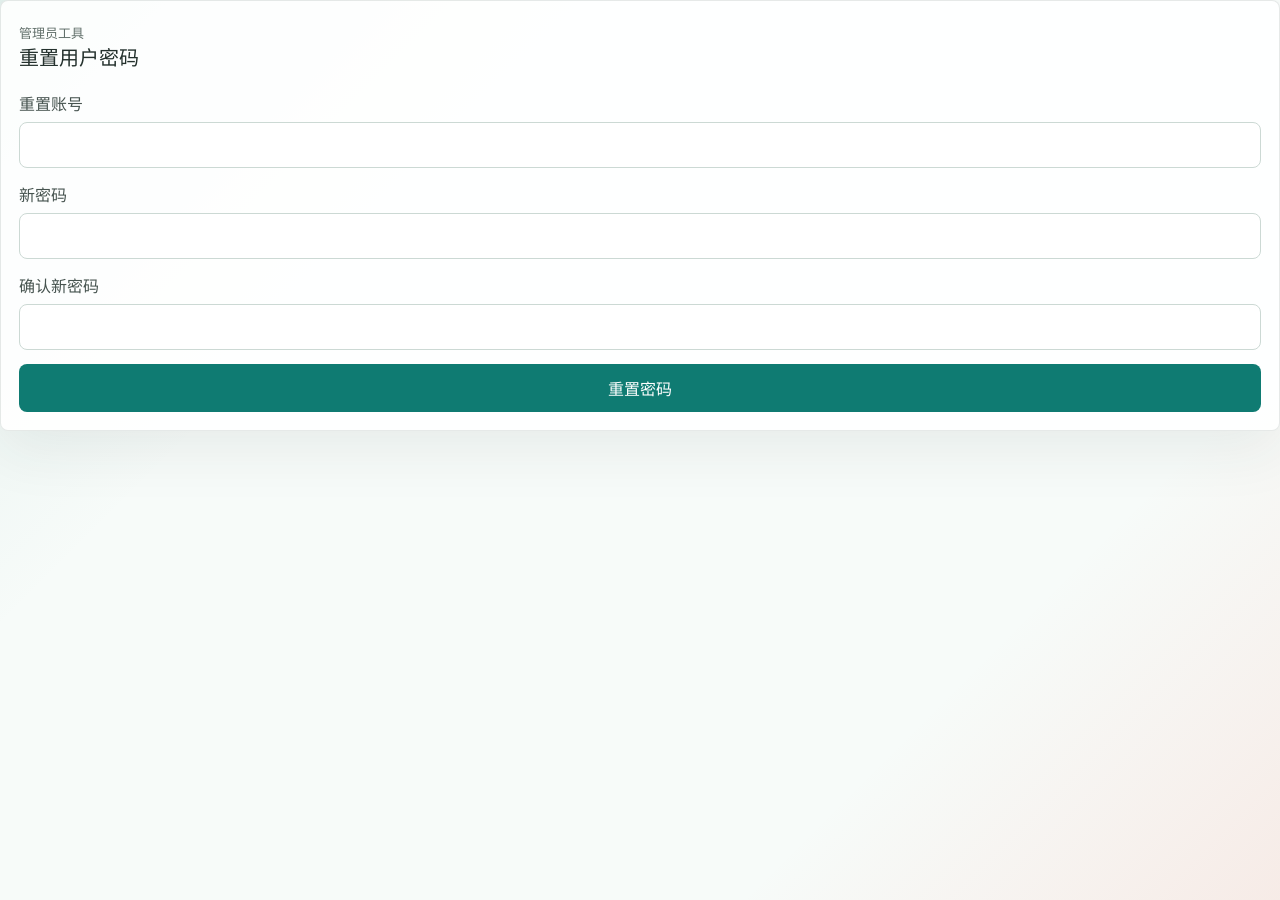
it: AdminResetPasswordPanel › prevents password reset when confirmation does not match
This screenshot has width=1280, height=900.
Type "baby_home" into the field labelled "重置账号" at (640, 145), box [19,122,1261,168]
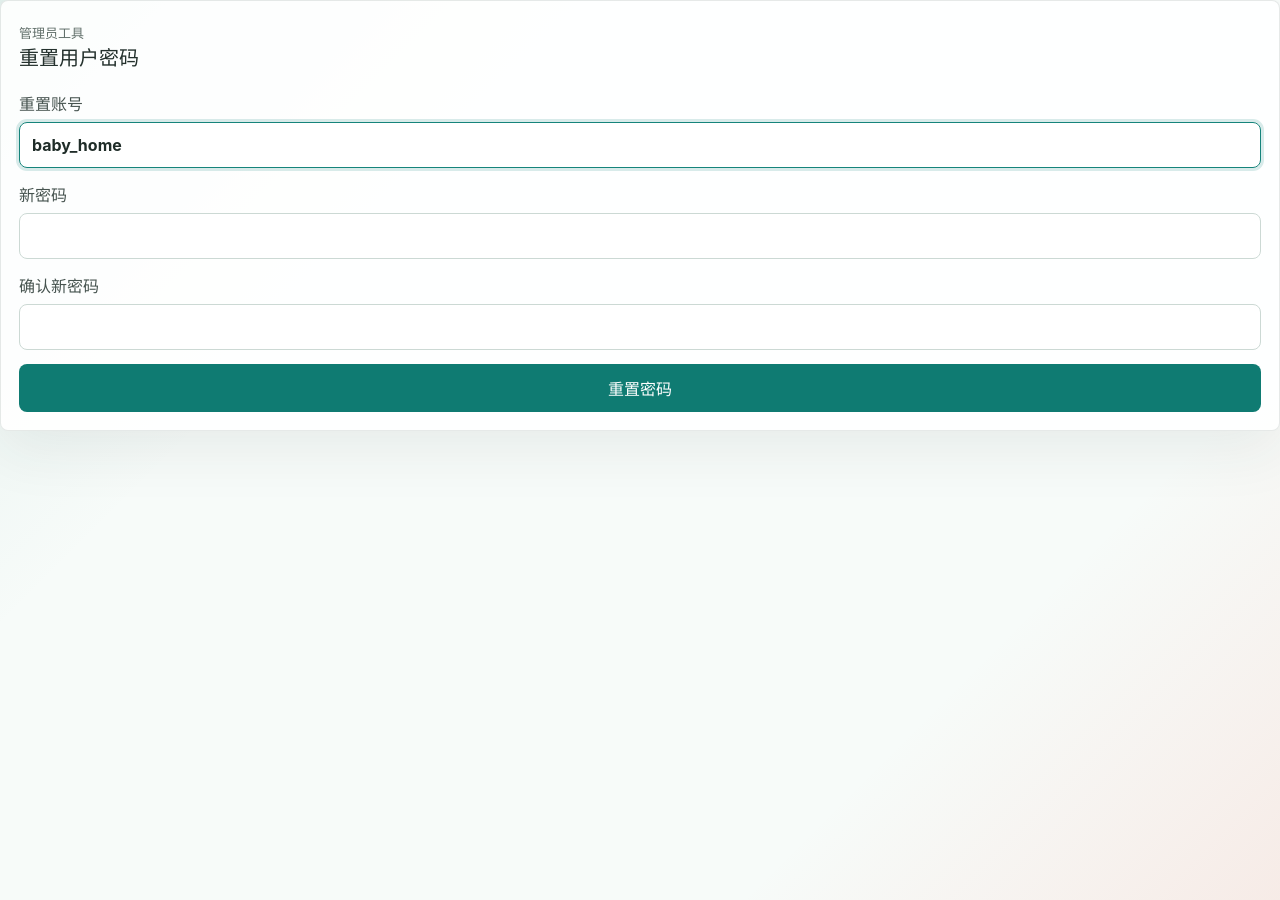
Type "newpass123" into the password field labelled "新密码" at (640, 236), box [19,213,1261,259]
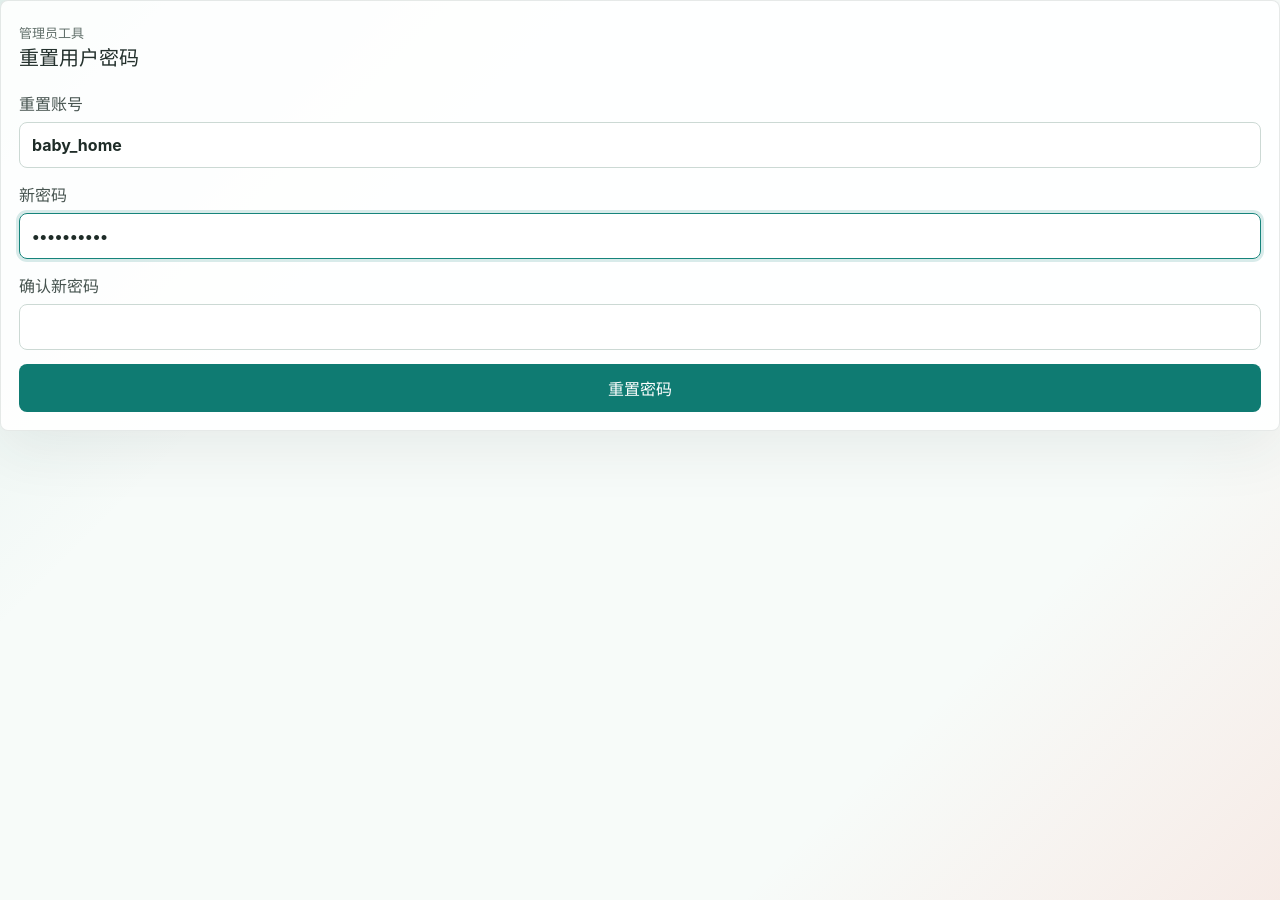
Type "wrongpass" into the password field labelled "确认新密码" at (640, 327), box [19,304,1261,350]
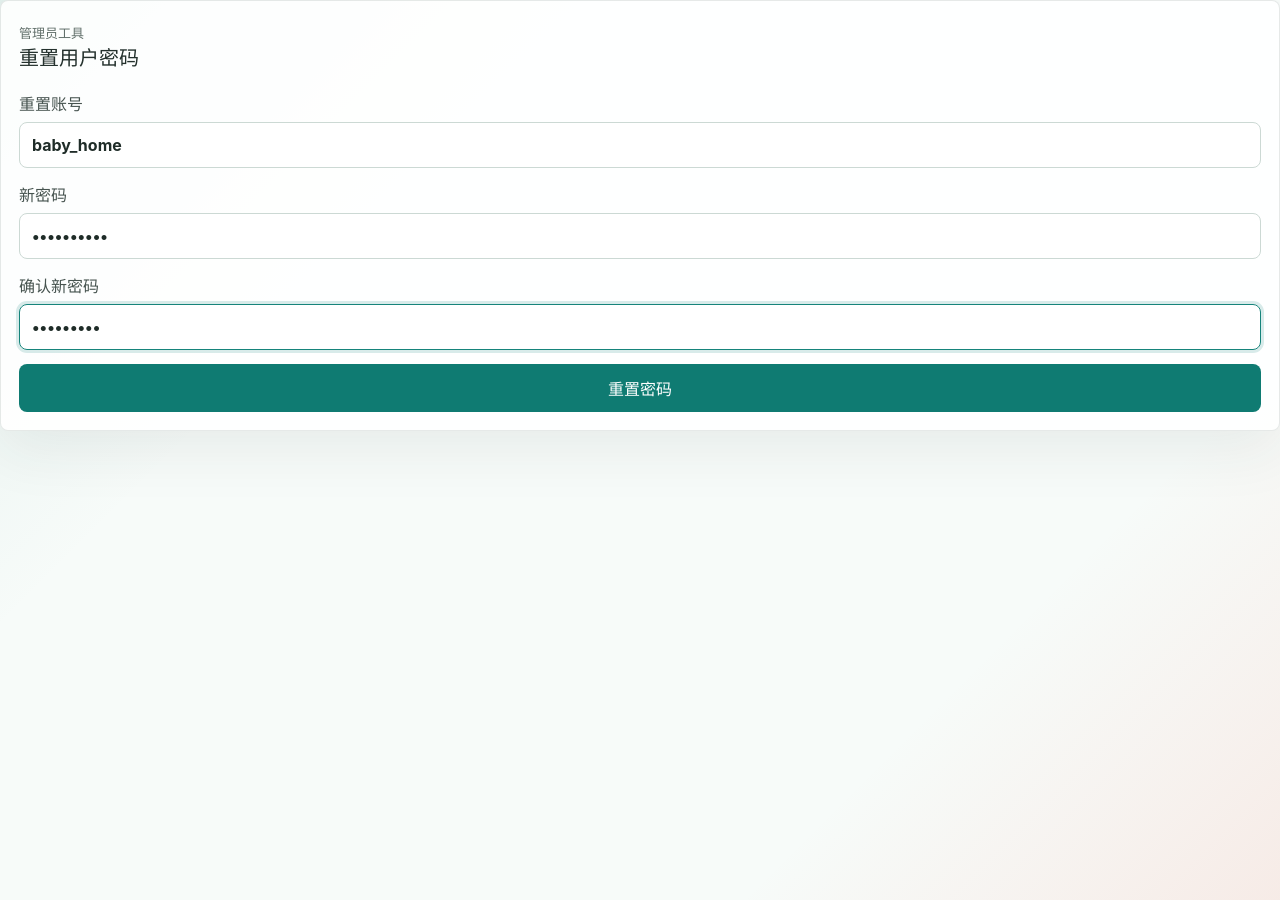
Click the button "重置密码" at (640, 388), box [19,364,1261,412]
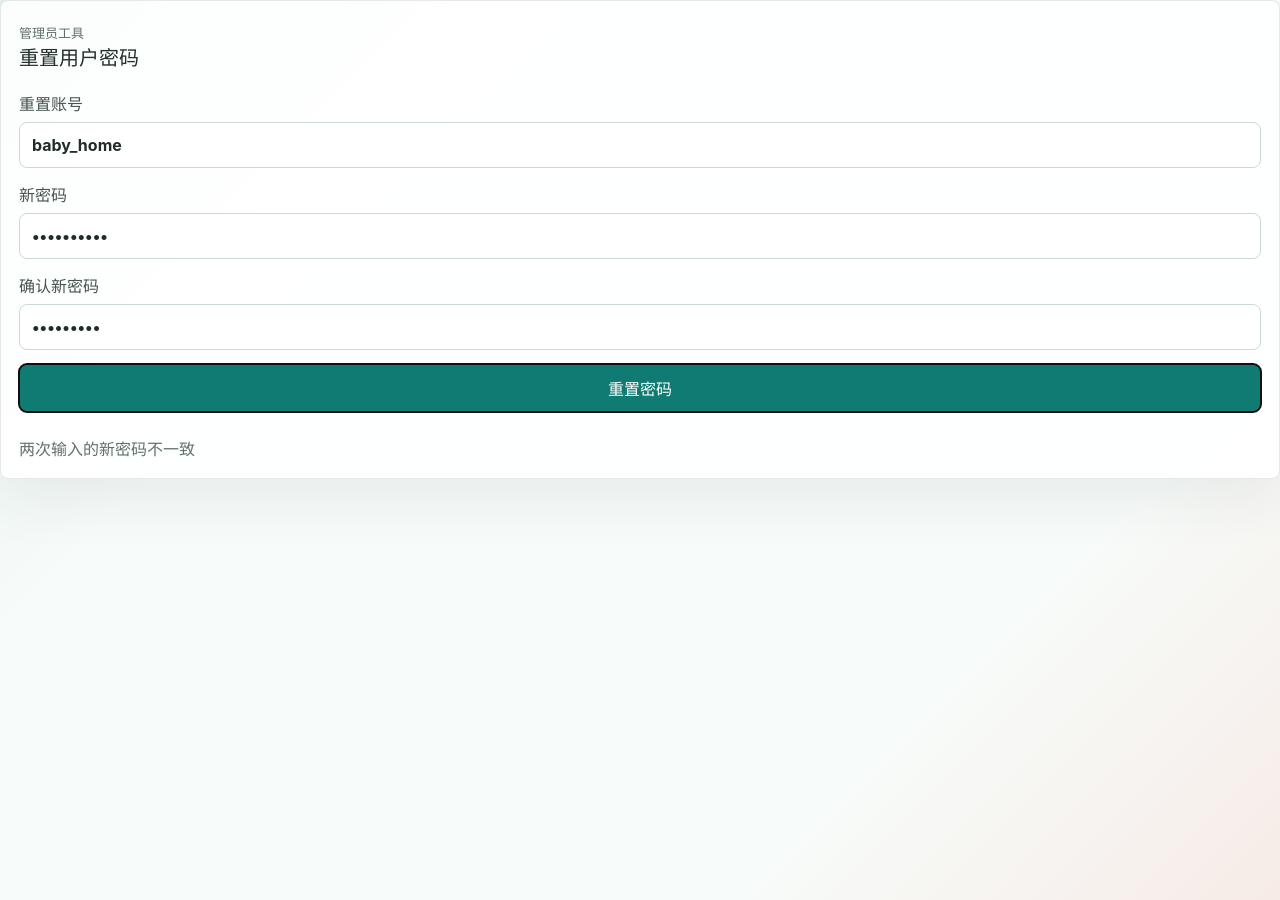
Check: the text "两次输入的新密码不一致" is shown, box [19,439,195,459]
